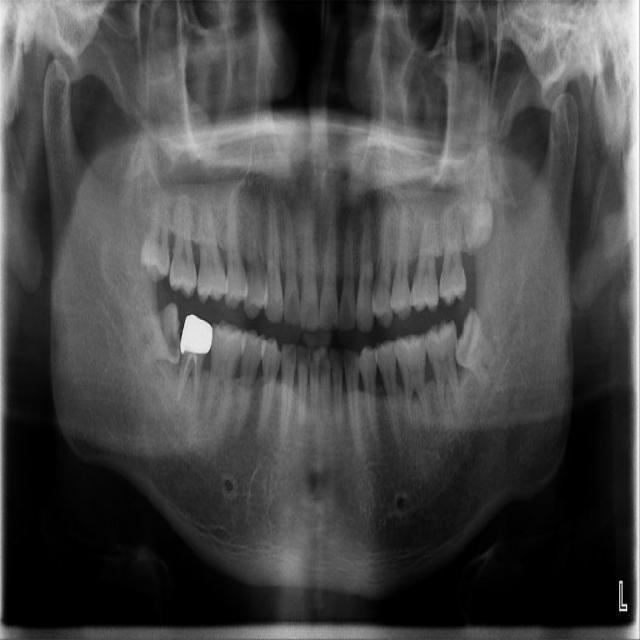Crown: (180, 313, 213, 355)
Root Canal Treatment: (179, 354, 191, 389), (195, 356, 197, 378), (195, 378, 197, 395)
impacted tooth: (455, 307, 497, 386), (461, 154, 491, 251), (131, 304, 179, 361)
